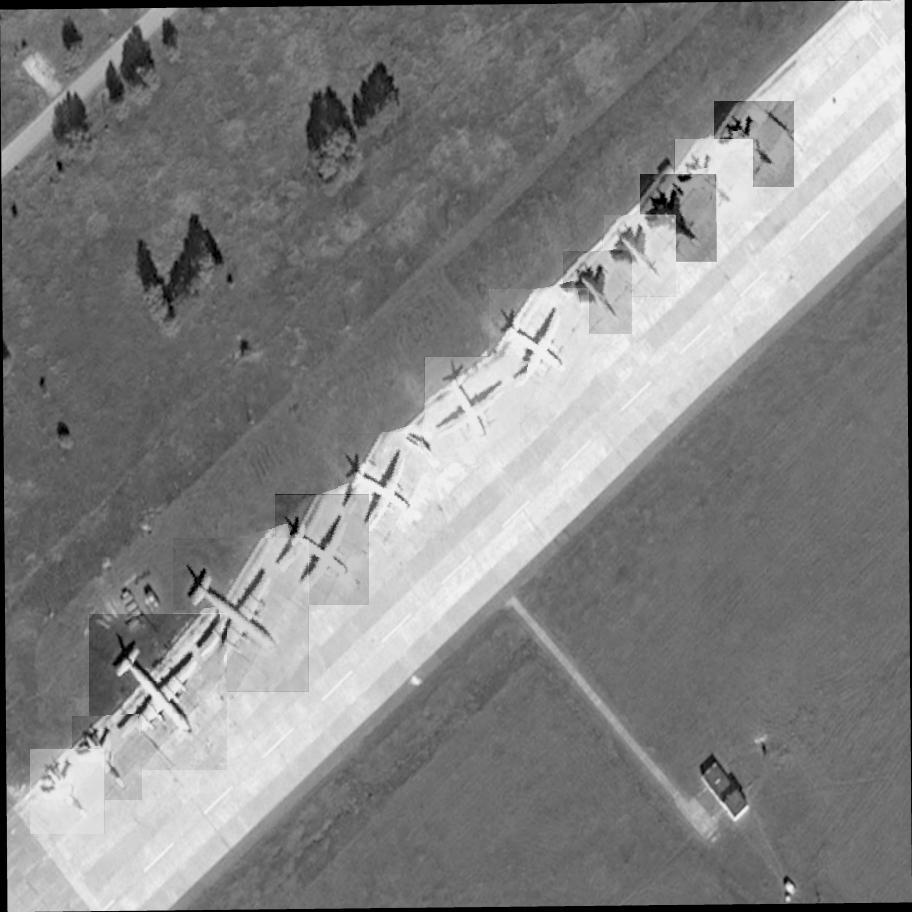plane: (83, 615, 239, 770), (165, 538, 315, 692), (485, 289, 598, 407), (334, 433, 440, 545), (416, 358, 528, 462), (271, 495, 374, 606), (636, 174, 724, 262), (710, 101, 799, 187), (672, 139, 760, 223), (27, 750, 108, 835), (560, 251, 641, 335), (69, 716, 148, 800), (602, 215, 682, 296)
